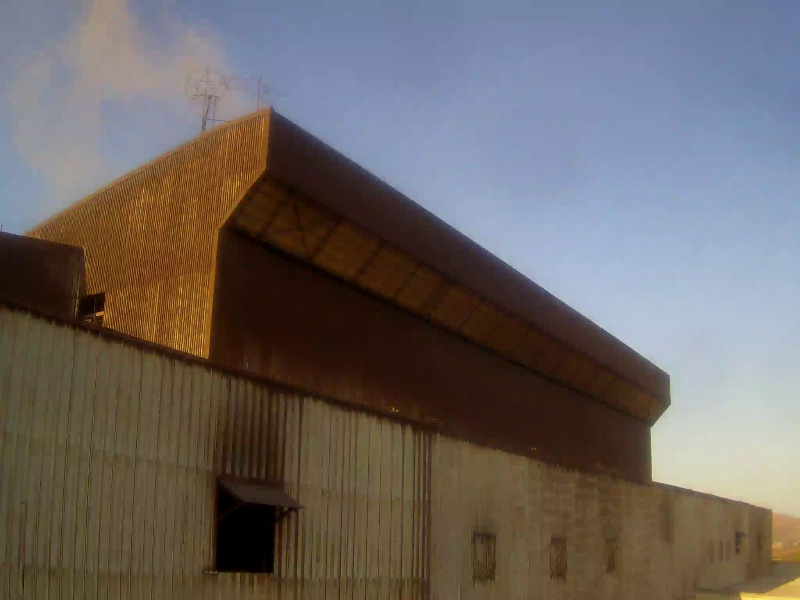Boa: (350, 3, 800, 121), (663, 137, 800, 451)
Ruim: (5, 2, 287, 193)
